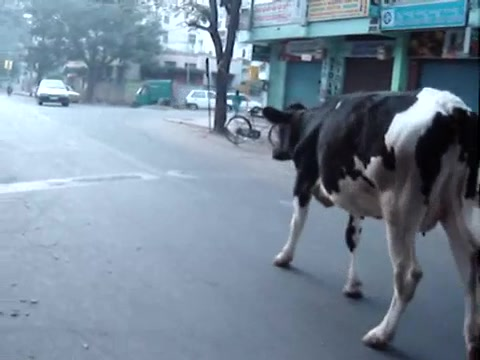cow: (260, 87, 480, 360)
